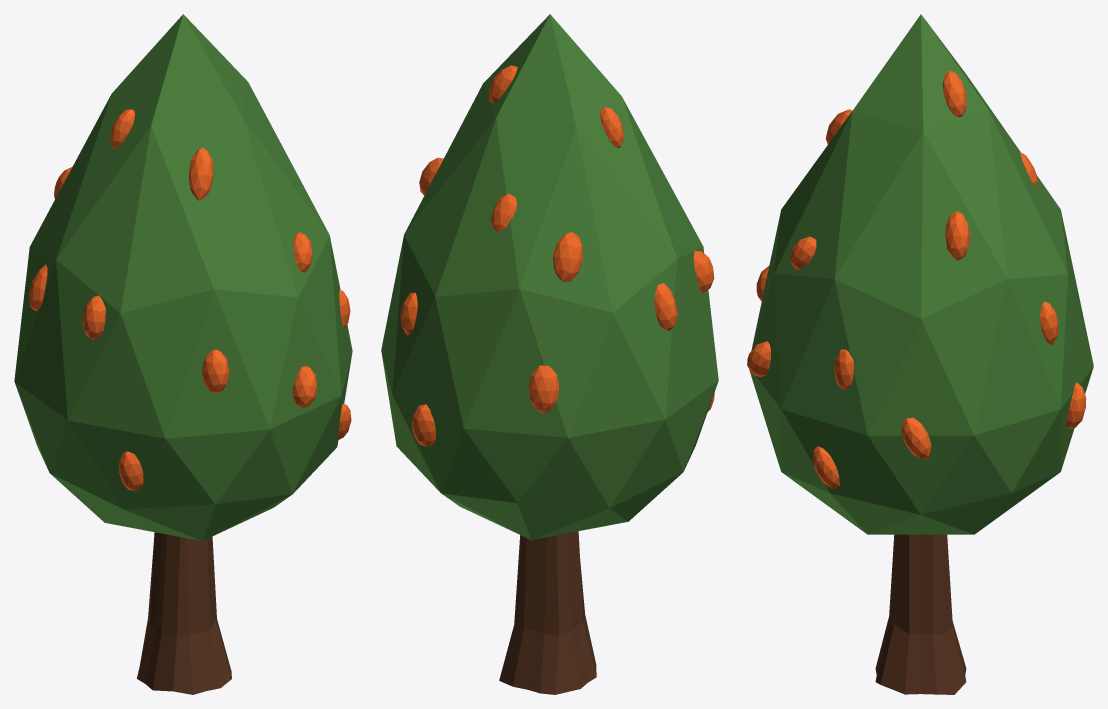
The model's file is TreePear_1.fbx.
The picture shows the model from 3 angles, left to right: view 1: azimuth 30°, elevation 25°; view 2: azimuth 150°, elevation 25°; view 3: azimuth 270°, elevation 25°; orthographic projection.
Parts seen in each view (by area): view 1: TreePear_1; view 2: TreePear_1; view 3: TreePear_1.
Part boxes in pixels (x1=…): TreePear_1: x1=14, y1=14, x2=352, y2=694; TreePear_1: x1=381, y1=14, x2=718, y2=694; TreePear_1: x1=747, y1=14, x2=1093, y2=694.
Size of the model in its own units: 145 by 312 by 148.
